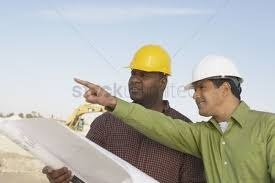helmet: (181, 51, 248, 94), (120, 42, 175, 78)
person with partial safety: (180, 52, 275, 183), (89, 42, 188, 140)
